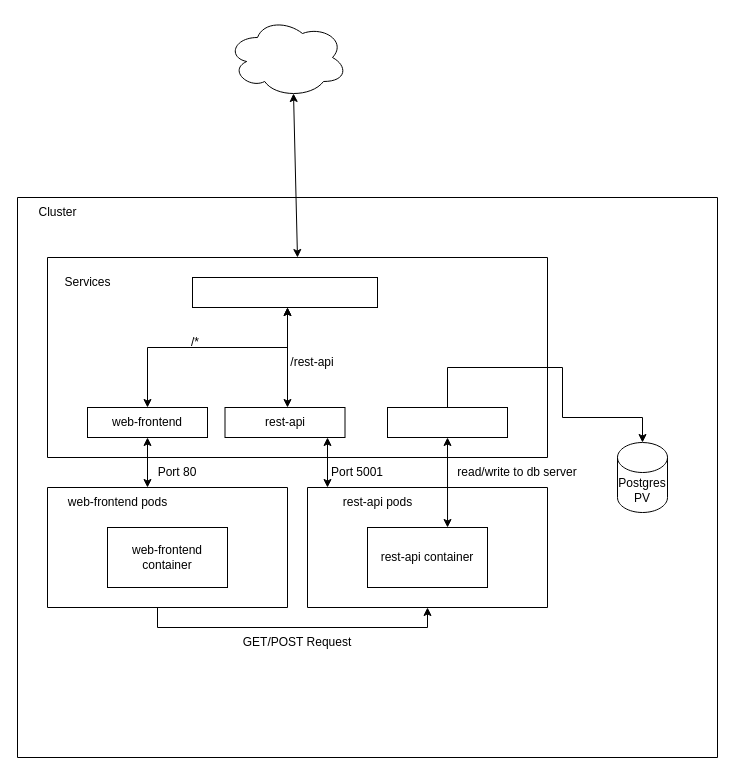
This 735x775 diagram has some shape labels left out. Here are the shapes that lost their labels. From the top down, the centre of each, then its label:
[285,292]: KUBERNETES INGRESS
[447,422]: postgres
